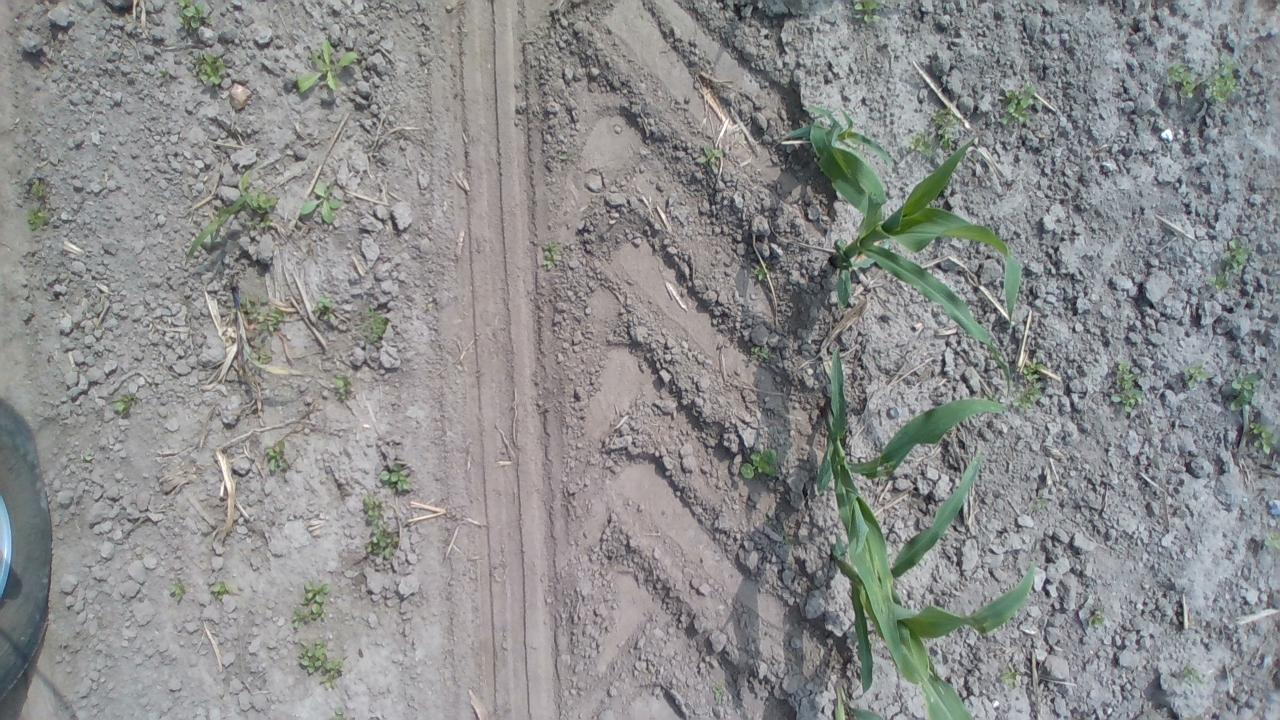Maize: (816, 344, 1008, 682), (802, 102, 1022, 386), (826, 452, 1036, 720), (186, 167, 278, 261), (780, 103, 900, 172), (832, 683, 886, 720)
Weeds: (1162, 56, 1242, 103), (296, 37, 359, 95), (906, 104, 958, 160), (1204, 238, 1250, 294), (363, 494, 400, 559), (298, 640, 346, 688), (999, 82, 1043, 130), (300, 179, 343, 225), (1108, 360, 1146, 412), (292, 577, 329, 630), (1010, 359, 1047, 410), (237, 294, 283, 332), (190, 52, 230, 90), (176, 0, 222, 33), (739, 446, 780, 480), (378, 460, 418, 492), (354, 307, 386, 344), (1230, 370, 1258, 410), (1250, 419, 1280, 454), (694, 144, 726, 176), (249, 193, 277, 228), (1184, 362, 1212, 391), (264, 439, 290, 470), (110, 390, 140, 416), (24, 204, 52, 231), (851, 0, 882, 23), (540, 239, 560, 270), (313, 296, 336, 321), (209, 579, 234, 600), (334, 372, 352, 400), (998, 670, 1022, 688), (168, 579, 186, 602), (28, 178, 48, 197), (1087, 608, 1105, 627), (750, 345, 770, 361), (752, 263, 768, 281), (1182, 666, 1200, 682), (329, 703, 345, 720), (1268, 531, 1280, 549), (79, 448, 95, 460), (260, 350, 273, 364), (711, 684, 722, 700), (193, 243, 204, 257), (559, 150, 572, 160), (1038, 498, 1048, 508)
